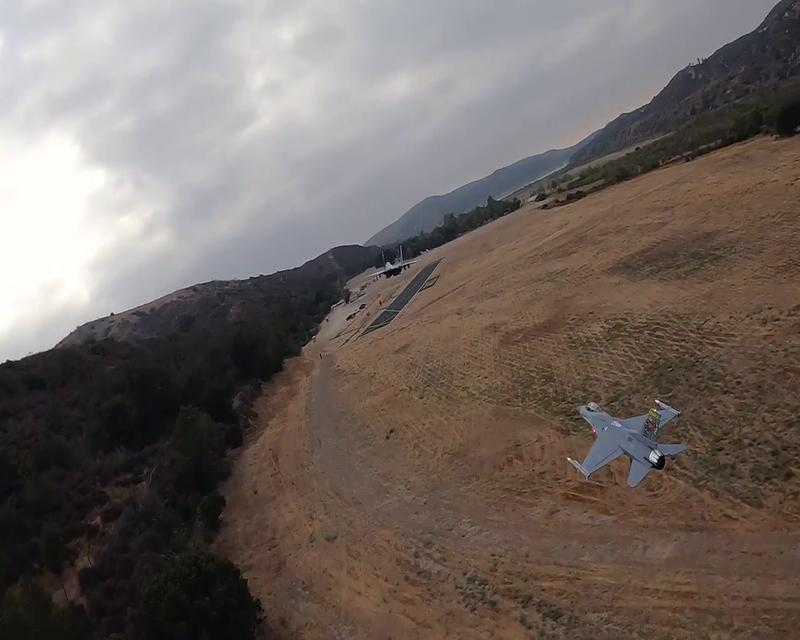UAV: (565, 397, 686, 488), (367, 244, 423, 282)
